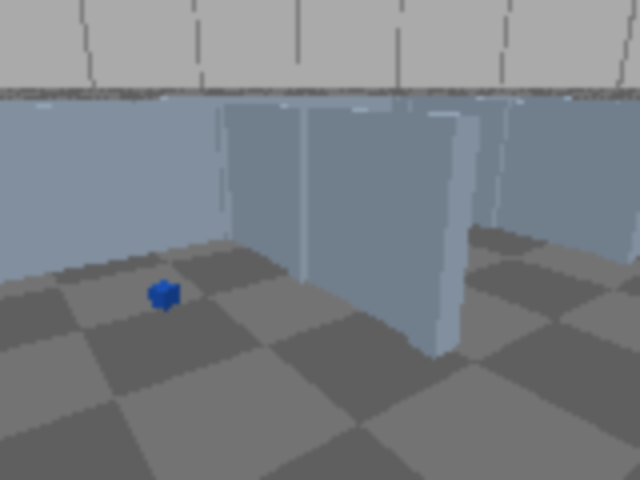puck: (148, 281, 180, 311)
